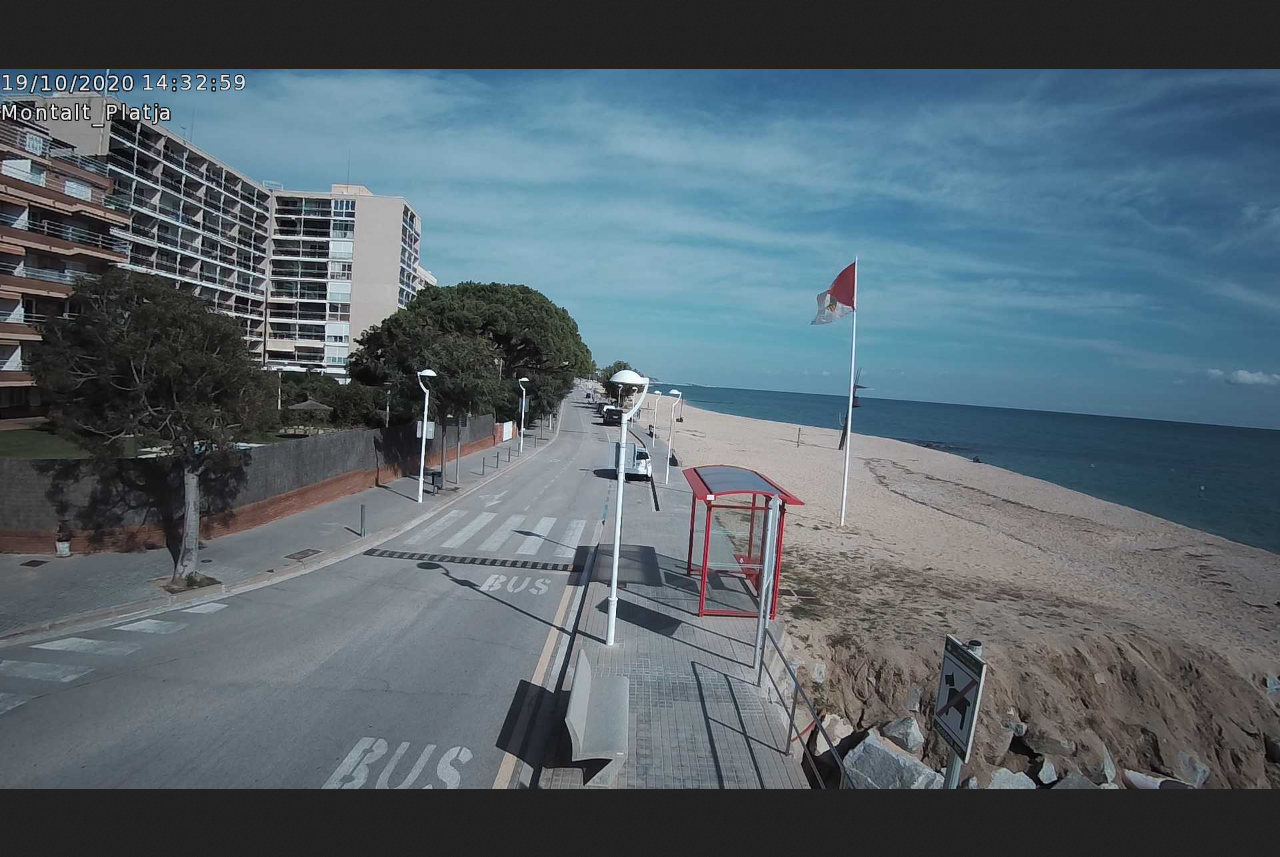maybe: (808, 257, 859, 332)
